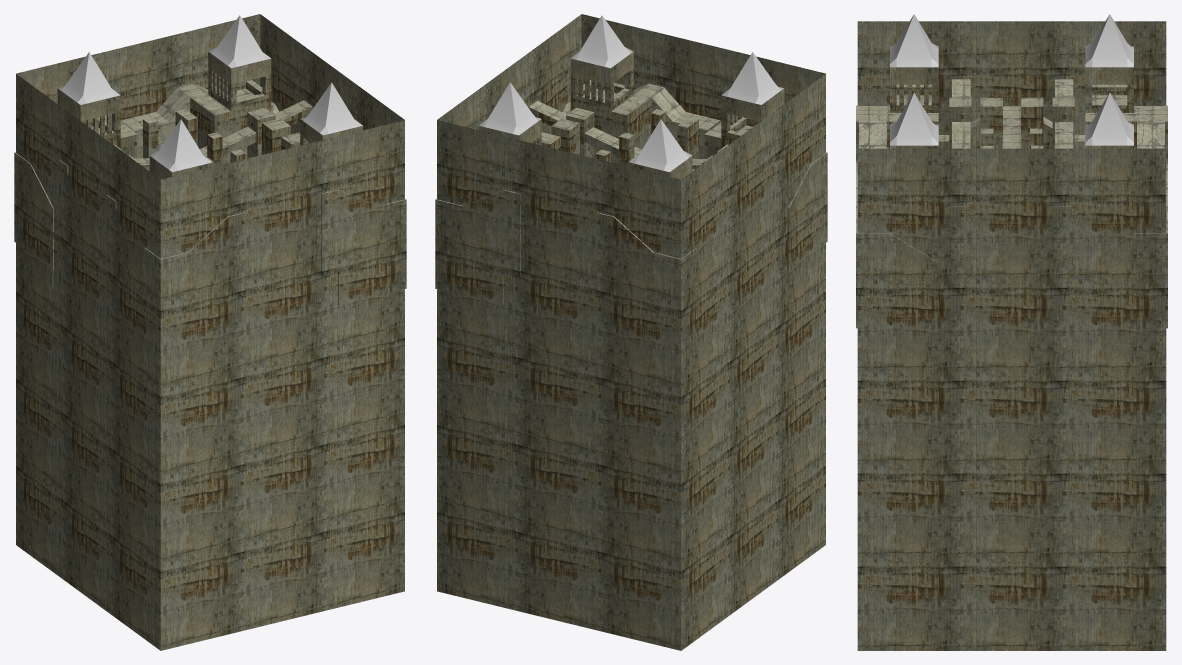
The model's file is SM_LDFest_08.fbx.
3 views of the same model, side by side, from view 1: azimuth 30°, elevation 25°; view 2: azimuth 150°, elevation 25°; view 3: azimuth 270°, elevation 25° (orthographic). The views are drawn at different scales.
Parts seen in each view (by area): view 1: SM_LDFest_08; view 2: SM_LDFest_08; view 3: SM_LDFest_08.
Boxes of the visible parts, box(x1,y1,x2,y2) form: SM_LDFest_08: box(14, 14, 406, 650); SM_LDFest_08: box(435, 14, 827, 650); SM_LDFest_08: box(856, 14, 1167, 650).
Size of the model in its own units: 3586 by 6978 by 3692.
